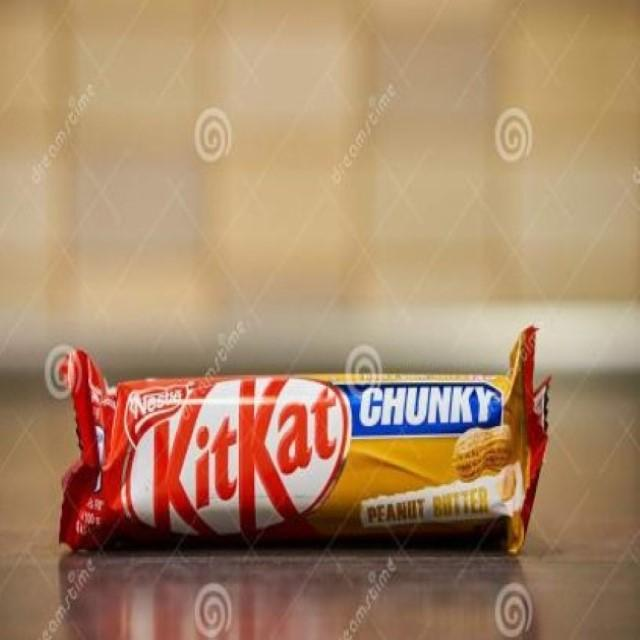kitkat_chocolate: (70, 366, 535, 556)
